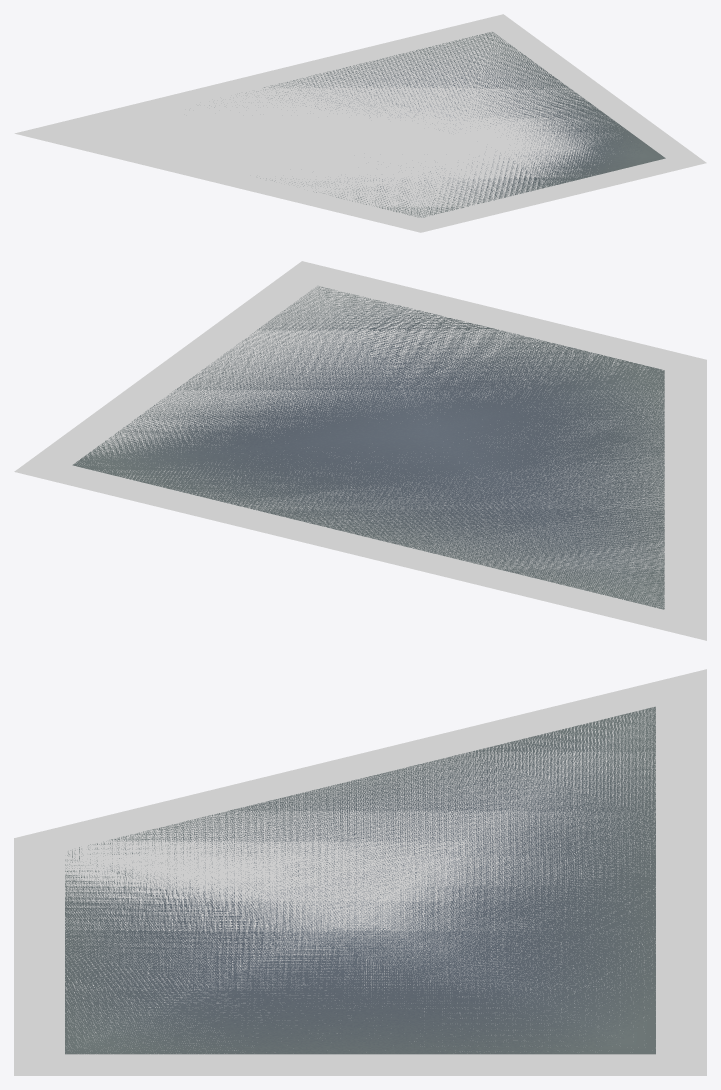
The model's file is pds-trap-mid-left.glb.
The picture shows the model from 3 angles, top to bottom: view 1: azimuth 30°, elevation 25°; view 2: azimuth 150°, elevation 25°; view 3: azimuth 270°, elevation 25°; orthographic projection. The views are drawn at different scales.
Parts seen in each view (by area): view 1: PDS-trap-mid-left-COL, PDS-trap-mid-left; view 2: PDS-trap-mid-left, PDS-trap-mid-left-COL; view 3: PDS-trap-mid-left, PDS-trap-mid-left-COL.
Boxes of the visible parts, <box> form: PDS-trap-mid-left-COL: <box>14,14,706,232</box>; PDS-trap-mid-left: <box>209,32,665,217</box>; PDS-trap-mid-left: <box>72,286,664,609</box>; PDS-trap-mid-left-COL: <box>14,261,706,640</box>; PDS-trap-mid-left: <box>65,706,655,1054</box>; PDS-trap-mid-left-COL: <box>14,669,706,1075</box>.
Size of the model in its own units: 18.05 by 0.2076 by 13.
1 material, 1 textured.
